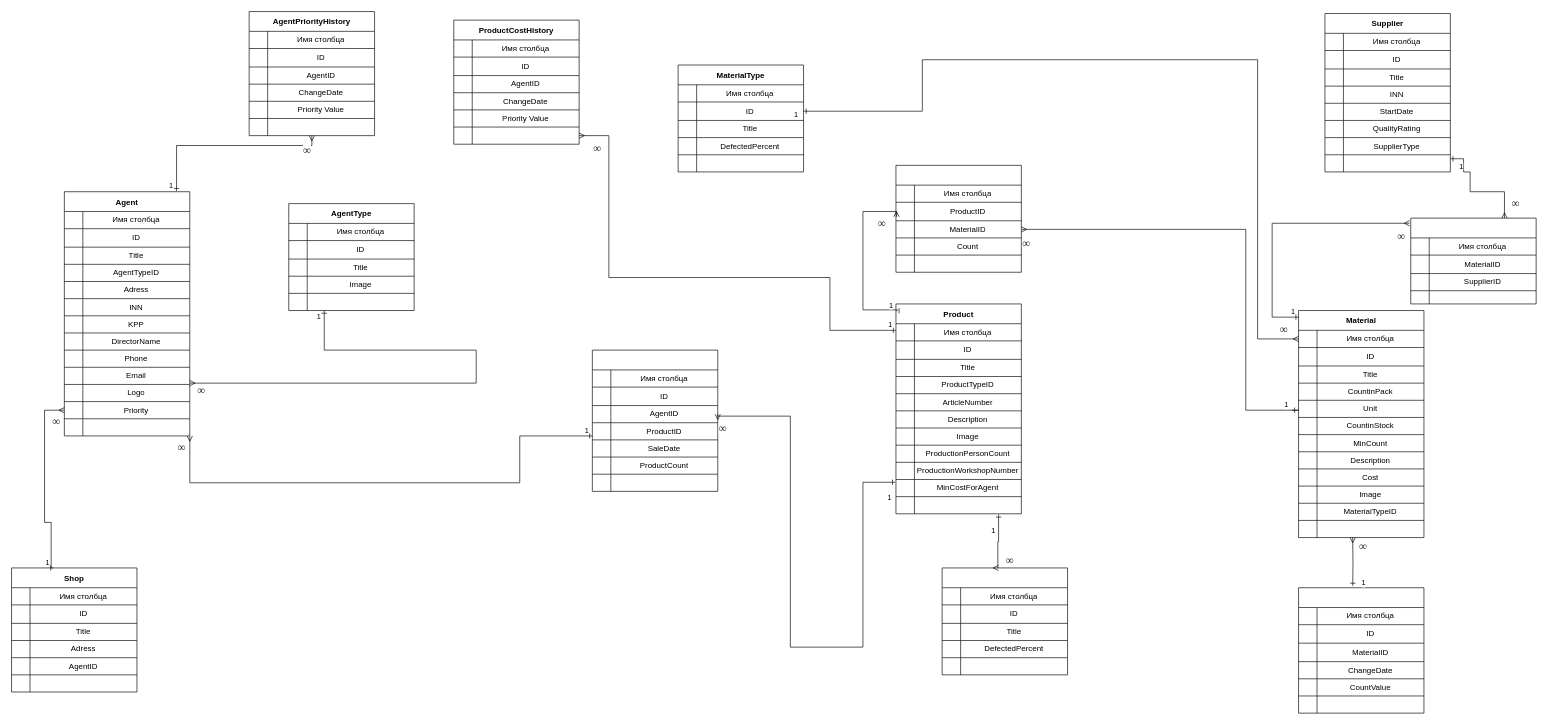
Image size: 1548x725. Some labels were removed from this diagram. The box of each missing label's shape, as (x1, y1, x2, y2) in pixels:
MaterialCountHistory: (1298, 587, 1424, 713)
MaterialSupplier: (1410, 217, 1536, 304)
ProductMaterial: (895, 165, 1021, 272)
ProductSale: (592, 349, 718, 491)
ProductType: (941, 567, 1068, 675)
